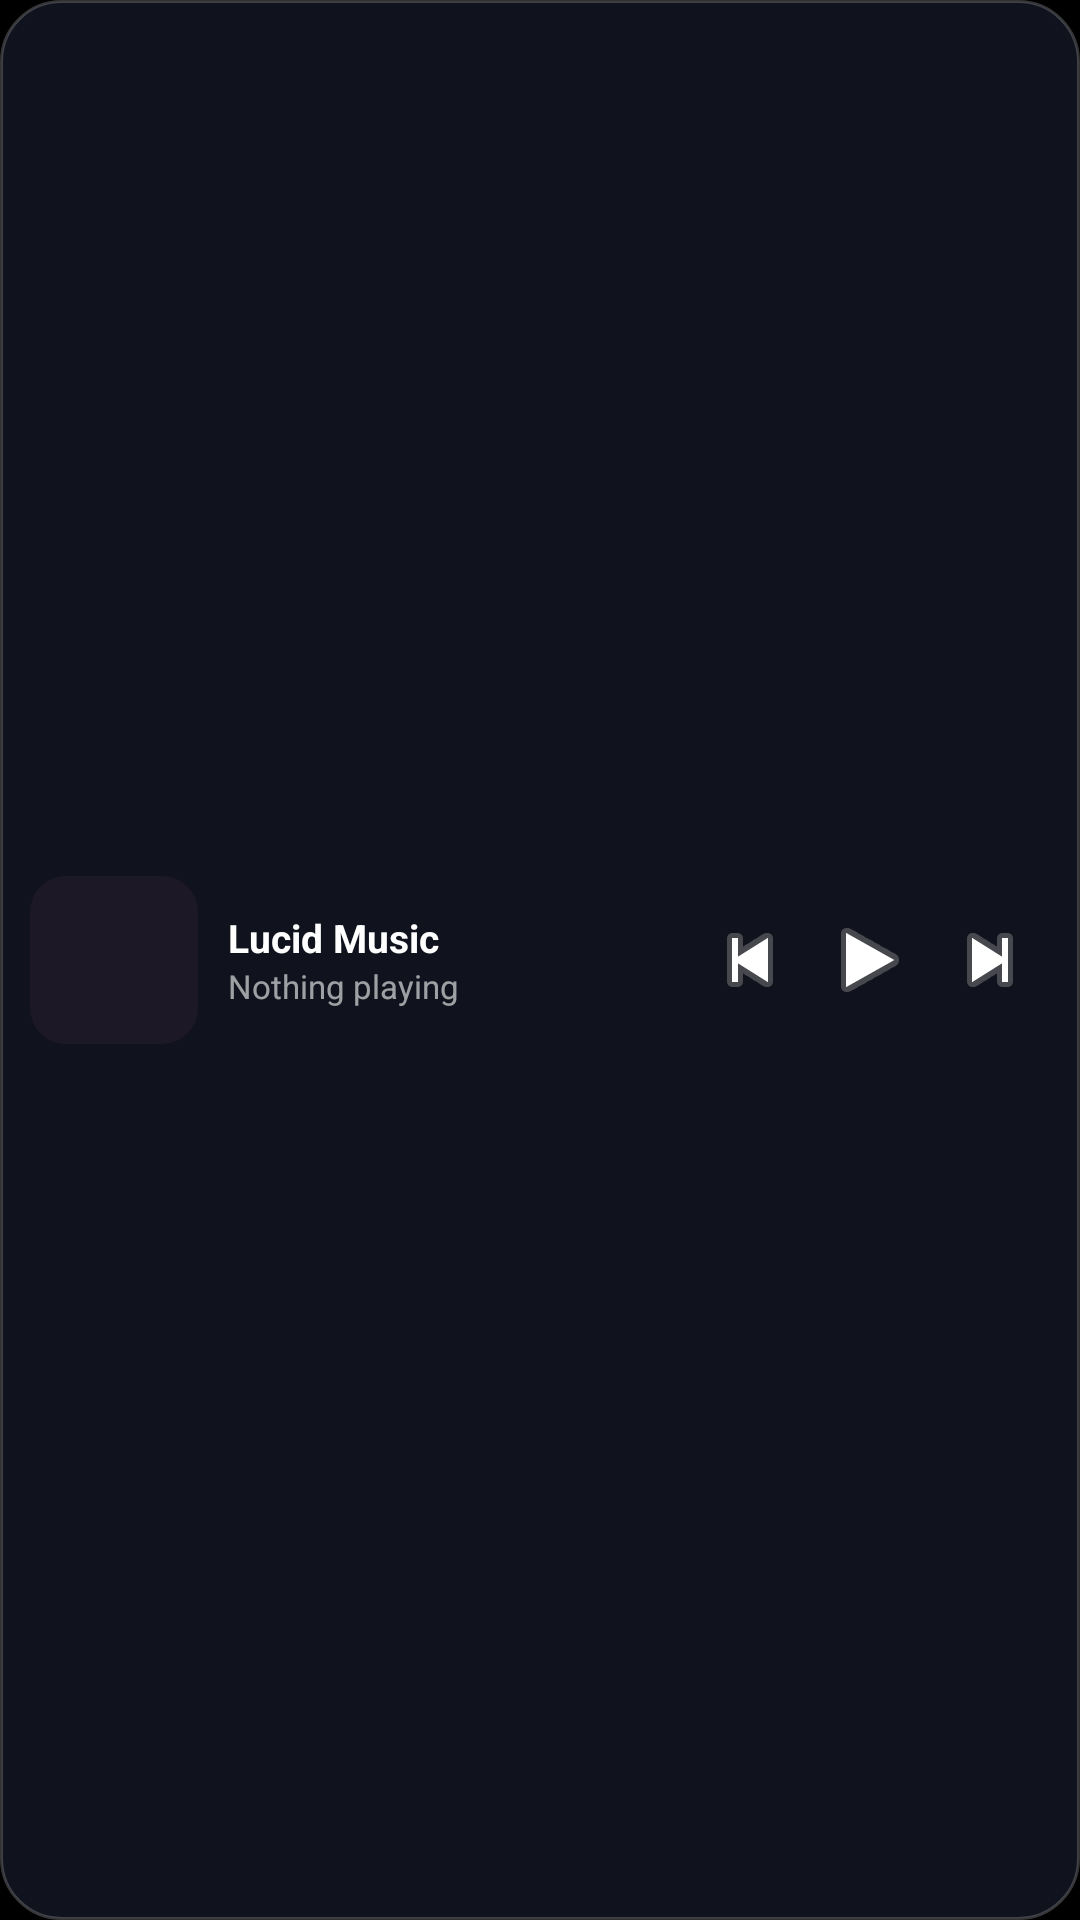

Icon bounding boxes for this 1080w x 1920h phone screenshot, format (x1, y1, x2, y2):
Next: (967, 933, 1013, 987)
Play or pause: (841, 928, 899, 992)
Previous: (727, 933, 773, 987)
